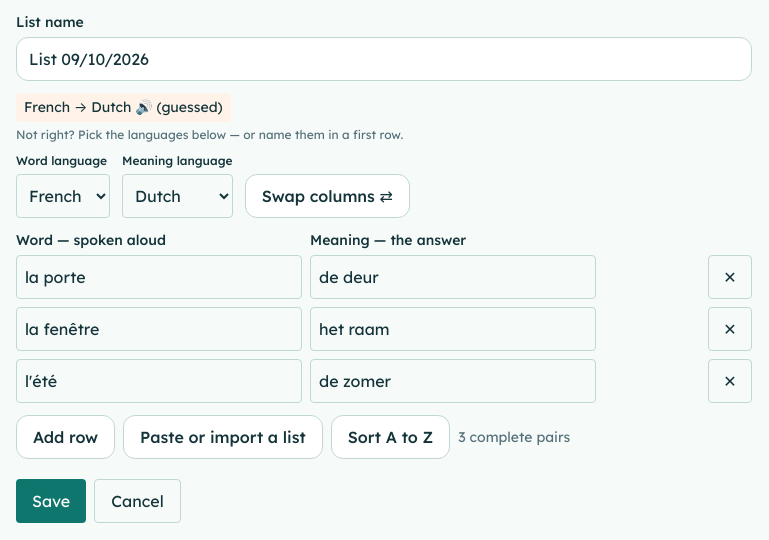
Test: language selectors › still swaps the words along with the languages on Swap columns
Click the button "Swap columns ⇄". click: (327, 196)
box: [245,174,410,218]
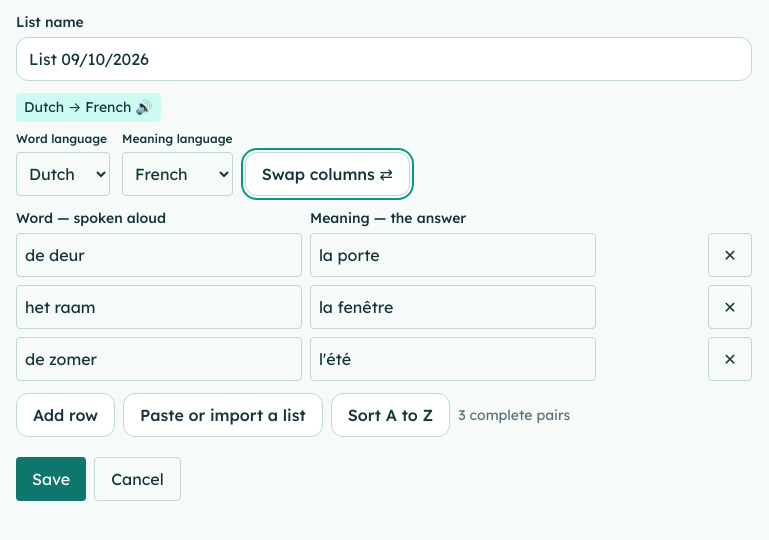
Expected: the dropdown labelled "Meaning language" shows "French", [122,152,233,196]
Expected: the dropdown labelled "Word language" shows "Dutch", [16,152,110,196]
